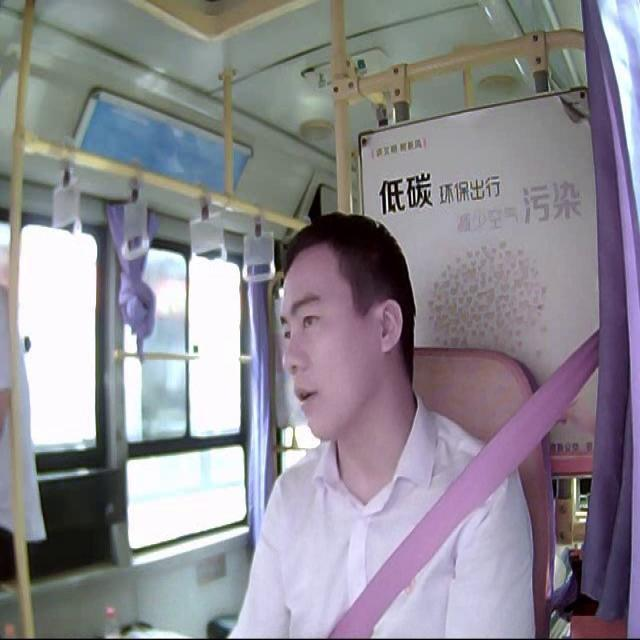Eye-Open: (301, 310, 322, 325), (281, 328, 297, 341)
Inattentive: (279, 209, 418, 477)
Normal: (293, 386, 321, 404)
